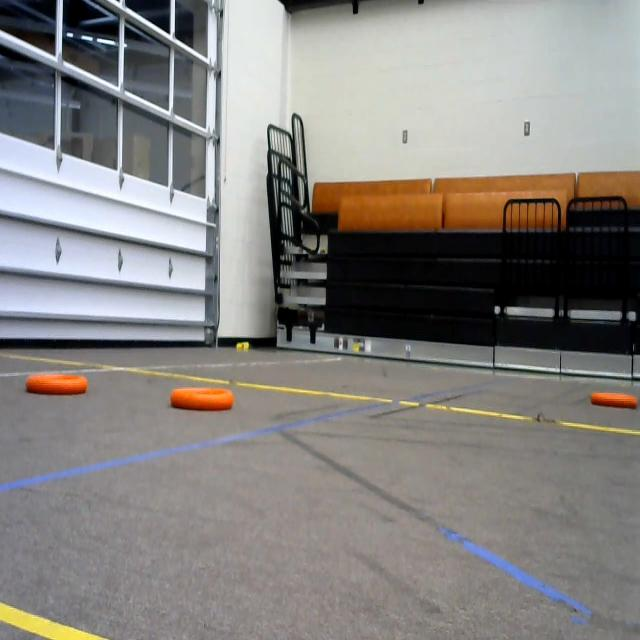note: (22, 368, 96, 411), (170, 376, 244, 417), (585, 385, 639, 418)
